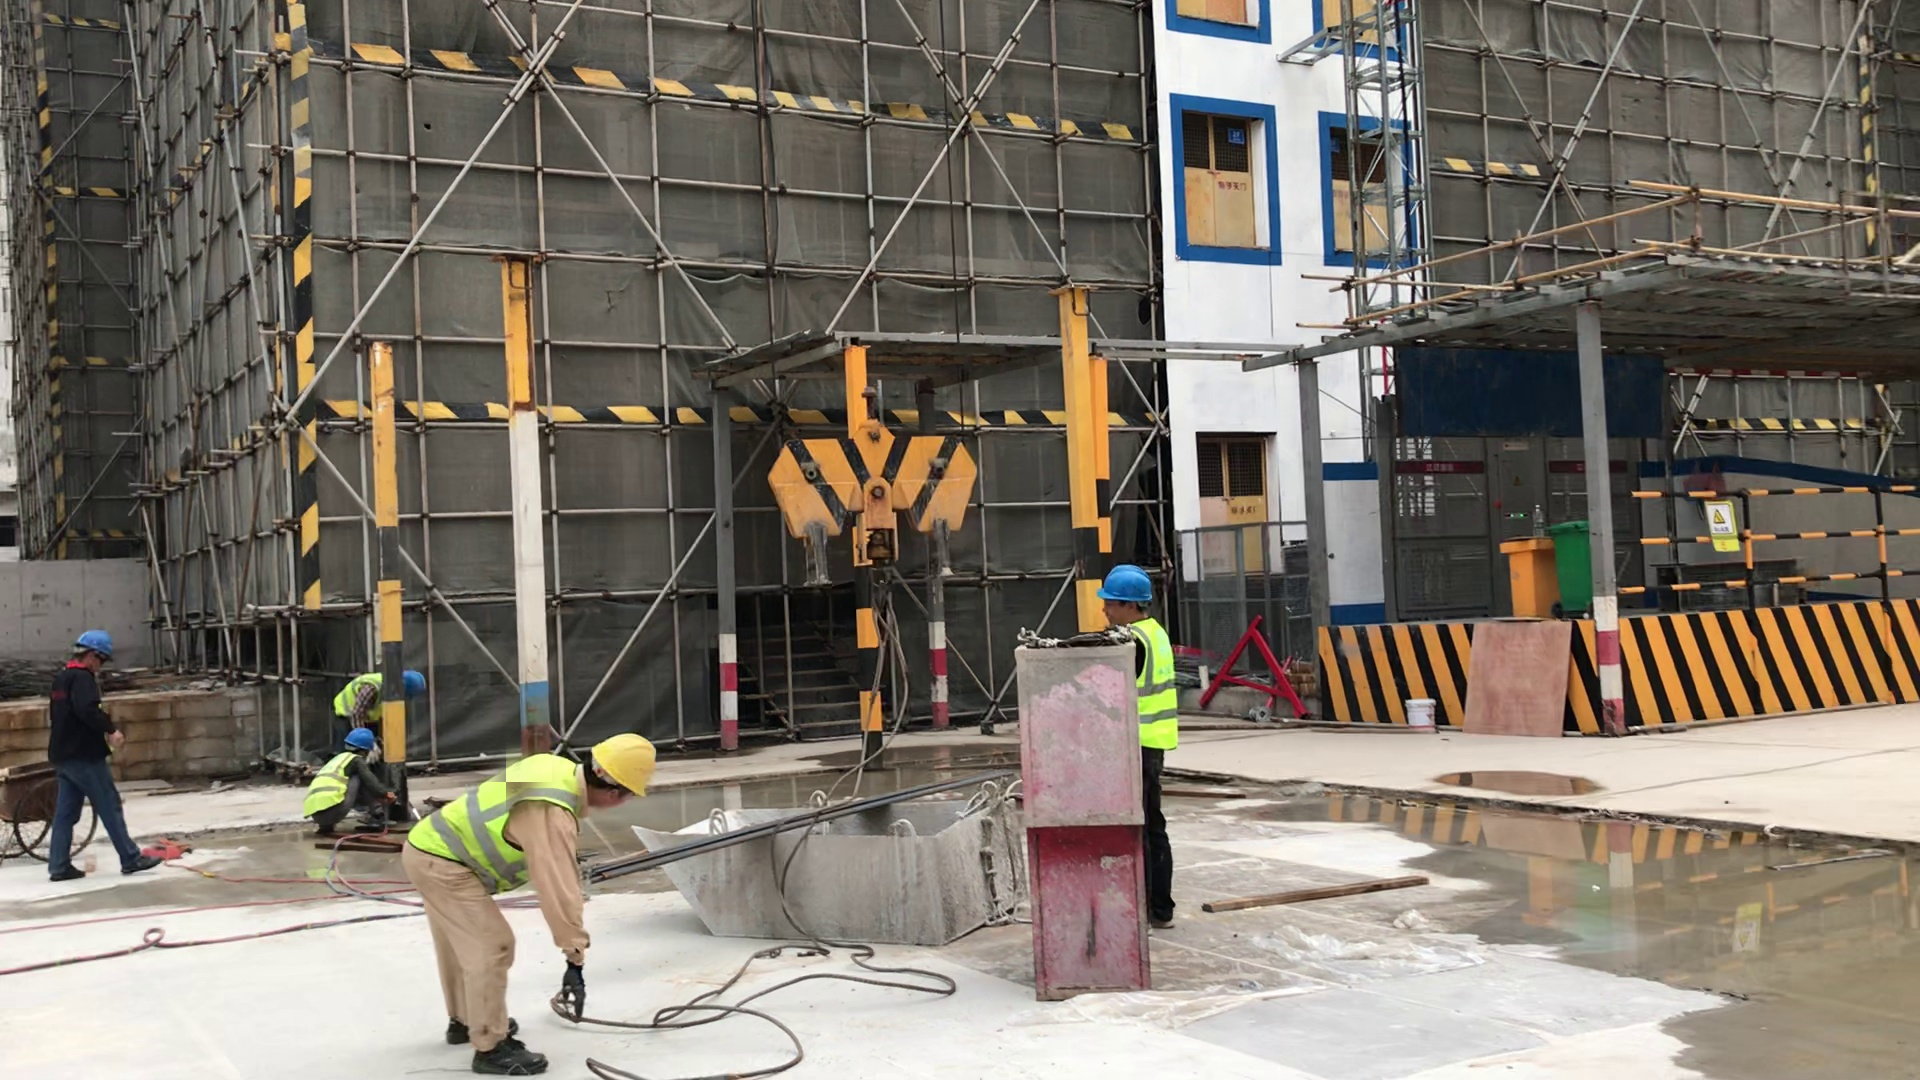fence: (1600, 474, 1920, 616)
handcart: (1, 730, 127, 873)
helmet: (592, 726, 663, 808), (56, 612, 129, 668), (1094, 561, 1163, 607), (336, 718, 386, 754), (398, 669, 442, 699)
hook: (760, 376, 991, 619)
hopper: (618, 781, 1026, 959)
person: (389, 701, 684, 1080), (1006, 539, 1221, 954), (28, 604, 189, 903), (292, 700, 405, 857), (327, 643, 456, 747)
rebar: (581, 818, 946, 889)
slogan: (1688, 488, 1740, 578)
vest: (395, 750, 599, 905), (1103, 615, 1197, 770), (317, 657, 394, 726), (287, 750, 360, 822)
